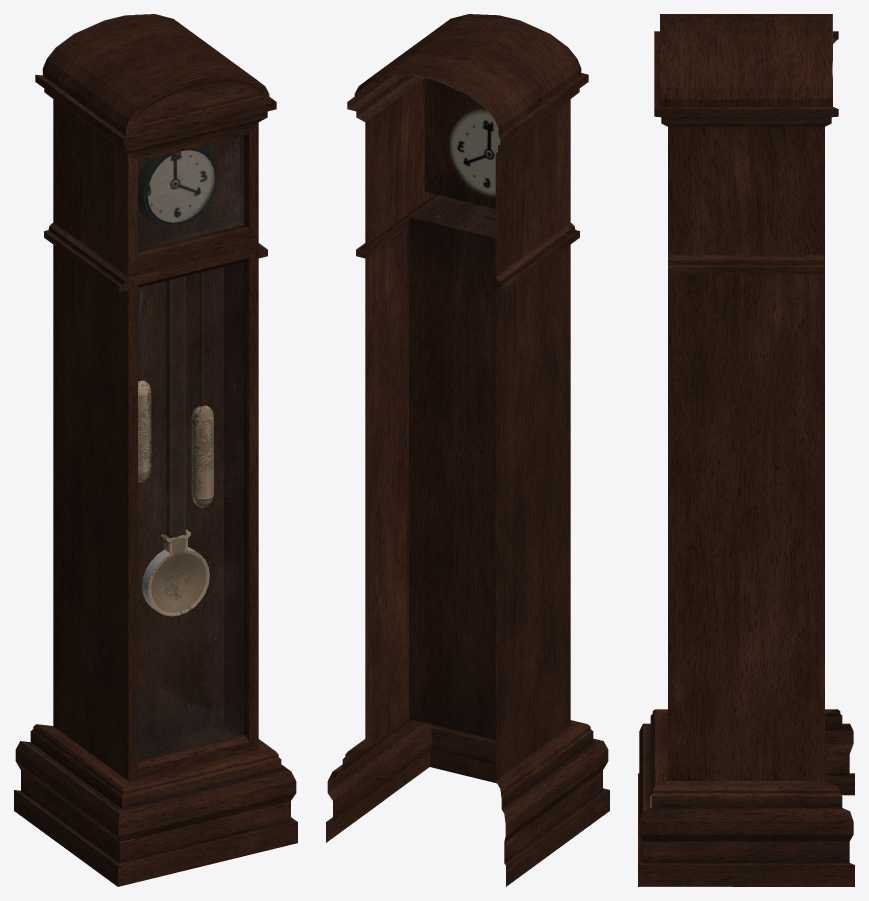
File: grandfather_clock.glb
The picture shows the model from 3 angles, left to right: view 1: azimuth 30°, elevation 25°; view 2: azimuth 150°, elevation 25°; view 3: azimuth 270°, elevation 25°; orthographic projection. The views are drawn at different scales.
Parts seen in each view (by area): view 1: grandfather_clock_LP; view 2: grandfather_clock_LP; view 3: grandfather_clock_LP.
Boxes of the visible parts, <box> form: grandfather_clock_LP: <box>14,14,297,886</box>; grandfather_clock_LP: <box>326,14,609,886</box>; grandfather_clock_LP: <box>638,14,854,886</box>.
Size of the model in its own units: 3.83 by 15.82 by 3.83.
1 material, 1 textured.
